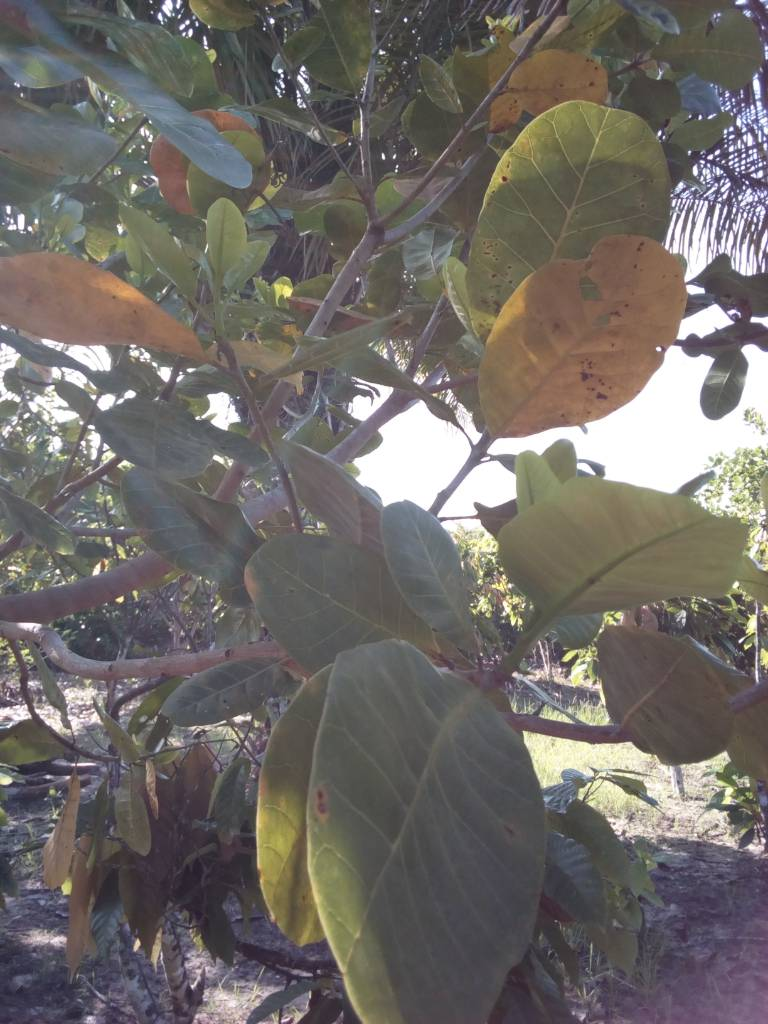Pestalotiose: (308, 647, 532, 1024), (466, 99, 669, 325), (483, 239, 688, 438)
